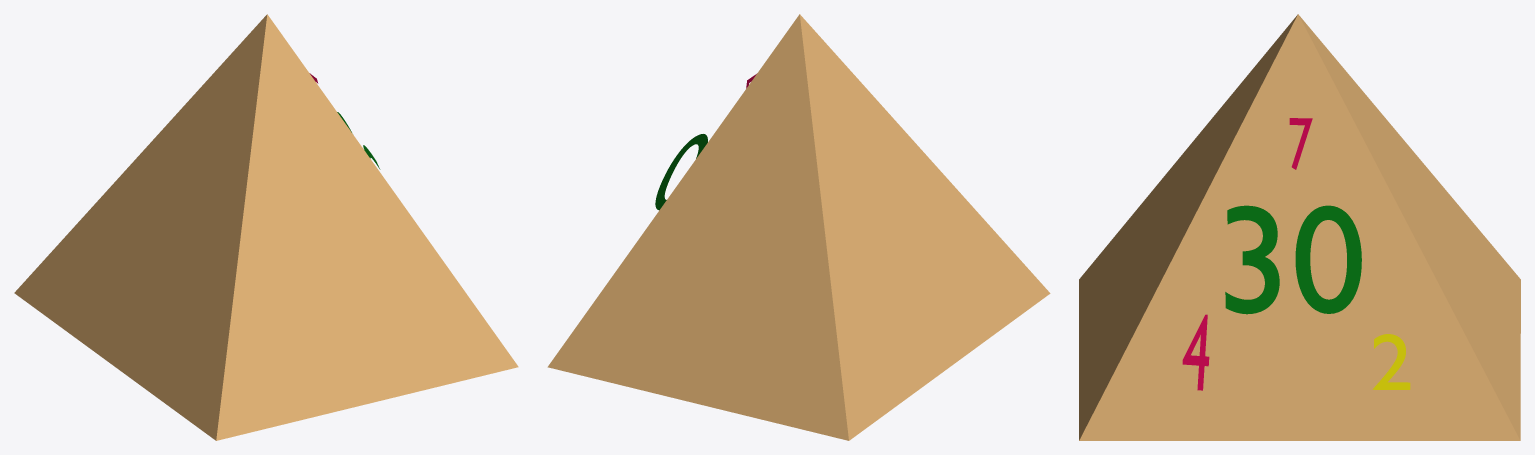
3 renders of one model, left to right at view 1: azimuth 30°, elevation 25°; view 2: azimuth 150°, elevation 25°; view 3: azimuth 270°, elevation 25°, orthographic. The views are drawn at different scales.
Visible parts, largest first — view 1: Cube; view 2: Cube, Text; view 3: Cube, Text, Text.003, Text.002, Text.001.
Boxes of the visible parts, x1=… form: Cube: x1=14, y1=14, x2=518, y2=440; Cube: x1=547, y1=14, x2=1050, y2=440; Text: x1=655, y1=134, x2=707, y2=210; Cube: x1=1079, y1=14, x2=1520, y2=440; Text: x1=1225, y1=205, x2=1361, y2=314; Text.003: x1=1372, y1=334, x2=1410, y2=389; Text.002: x1=1182, y1=314, x2=1209, y2=390; Text.001: x1=1289, y1=118, x2=1312, y2=169.
Size of the model in its own units: 200 by 200 by 231.
